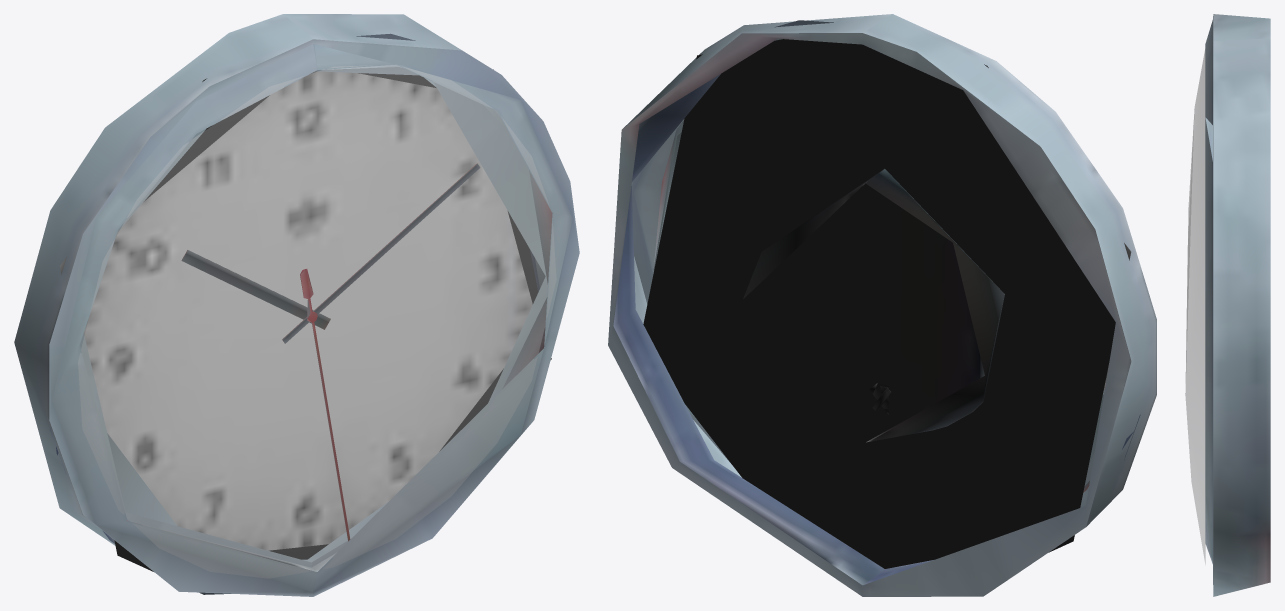
Rendered from wallClock_lo.glb.
The picture shows the model from 3 angles, left to right: view 1: azimuth 30°, elevation 25°; view 2: azimuth 150°, elevation 25°; view 3: azimuth 270°, elevation 25°; orthographic projection. The views are drawn at different scales.
Parts seen in each view (by area): view 1: wall_clock, wall_clock_hours_hand, wall_clock_minute_hand, wall_clock_second_hand; view 2: wall_clock; view 3: wall_clock.
Part boxes in pixels (box(x1,y1,x2,y2)): wall_clock: box(14, 14, 579, 596); wall_clock_hours_hand: box(181, 250, 330, 329); wall_clock_minute_hand: box(282, 163, 479, 343); wall_clock_second_hand: box(300, 269, 349, 541); wall_clock: box(608, 14, 1156, 596); wall_clock: box(1185, 14, 1270, 596).
Size of the model in its own units: 0.3183 by 0.3205 by 0.0462.
Materials: 2 (1 with a texture image).
